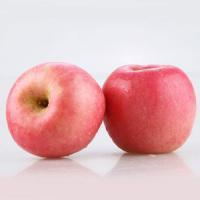apple: (3, 63, 105, 160), (103, 64, 197, 155)
